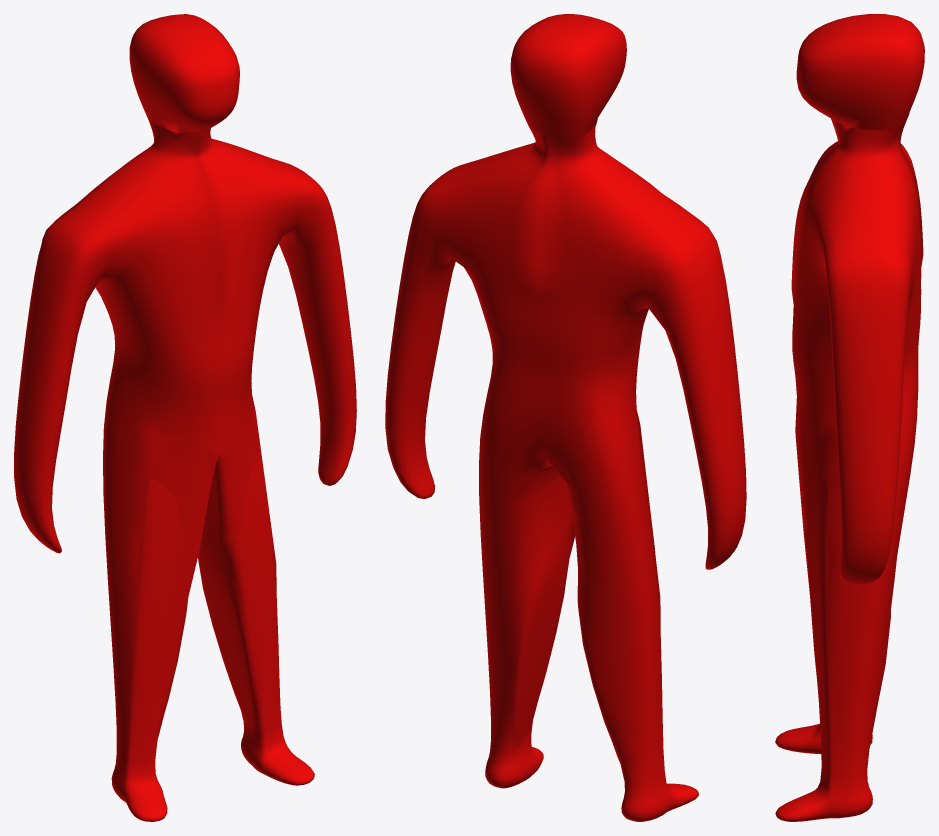
The model's file is ExportedBlenderFBXFile.fbx.
3 renders of one model, left to right at view 1: azimuth 30°, elevation 25°; view 2: azimuth 150°, elevation 25°; view 3: azimuth 270°, elevation 25°, orthographic. The views are drawn at different scales.
Visible parts, largest first — view 1: Cube; view 2: Cube; view 3: Cube.
Boxes of the visible parts, x1=… form: Cube: x1=14, y1=14, x2=356, y2=821; Cube: x1=385, y1=14, x2=746, y2=821; Cube: x1=775, y1=14, x2=924, y2=821.
Bounding box in the file's own units: 2.84 × 6.12 × 1.09.
